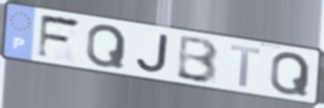B: (174, 34, 221, 85)
F: (35, 13, 84, 61)
J: (134, 33, 172, 75)
Q: (84, 23, 129, 70), (268, 51, 313, 97)
T: (229, 42, 264, 89)
